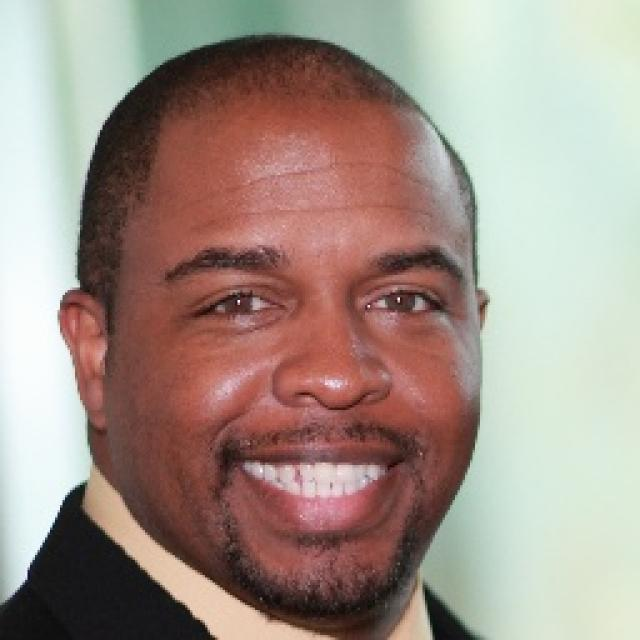earlobe: (81, 376, 112, 432)
eye: (197, 289, 281, 318), (362, 289, 442, 316)
nose: (279, 388, 396, 446)
wholeear: (58, 288, 113, 432)
